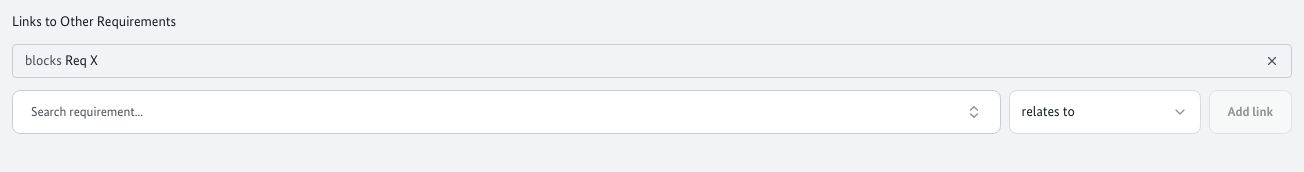
Test: RequirementDependenciesSection › remove button stages removal — item disappears from list immediately
expect the text "Req X" is shown: met, box top-left (65, 52), bottom-right (98, 69)
Click the button named "Remove dependency to Req X".
click(1272, 61)  # box top-left (1265, 54), bottom-right (1279, 68)
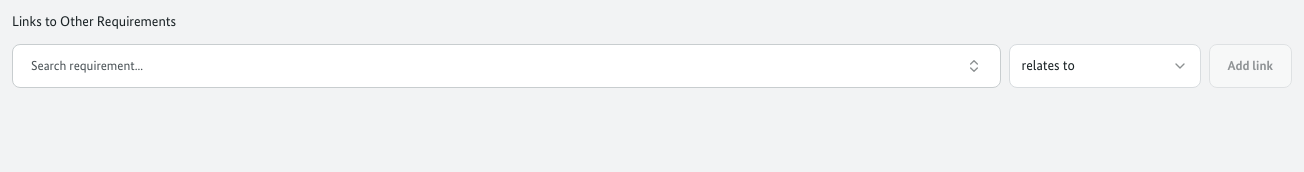
expect the text "Req X" is gone: met
